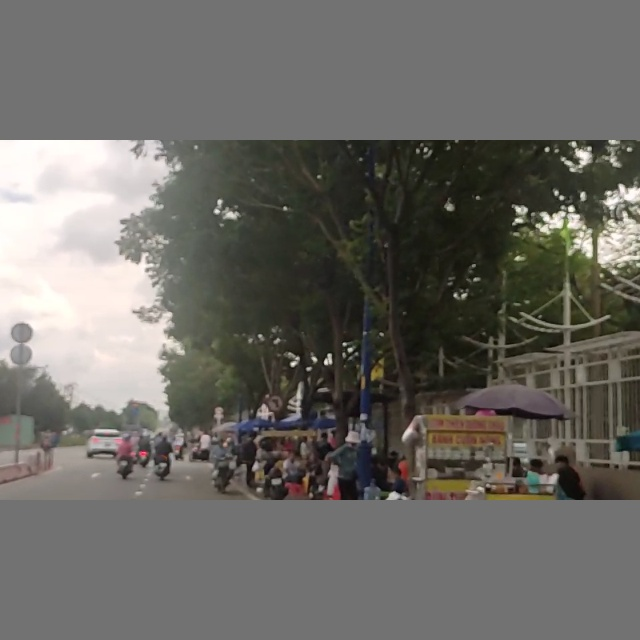P.123a: (267, 394, 284, 413)
